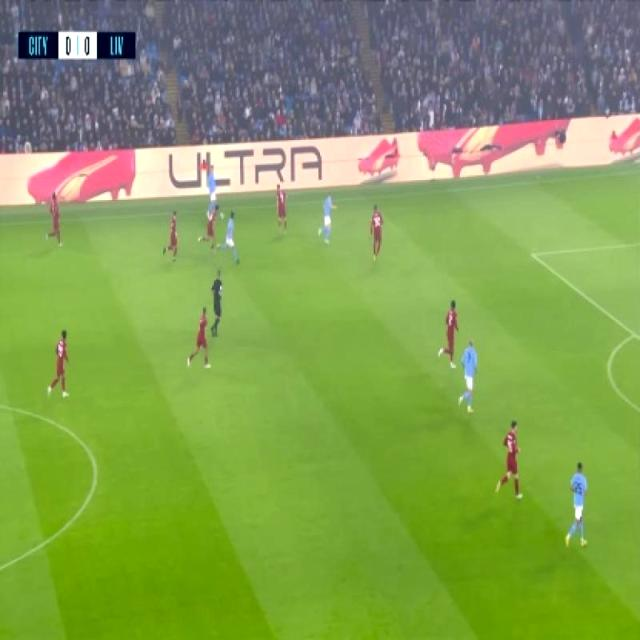bigarea_top_inner: (520, 238, 543, 270)
top_arc_area_intersection: (625, 320, 640, 348)
